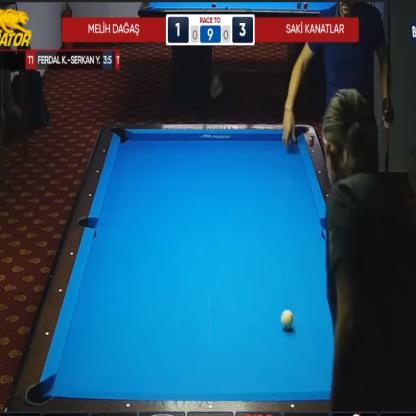Ball: (281, 310, 293, 330)
